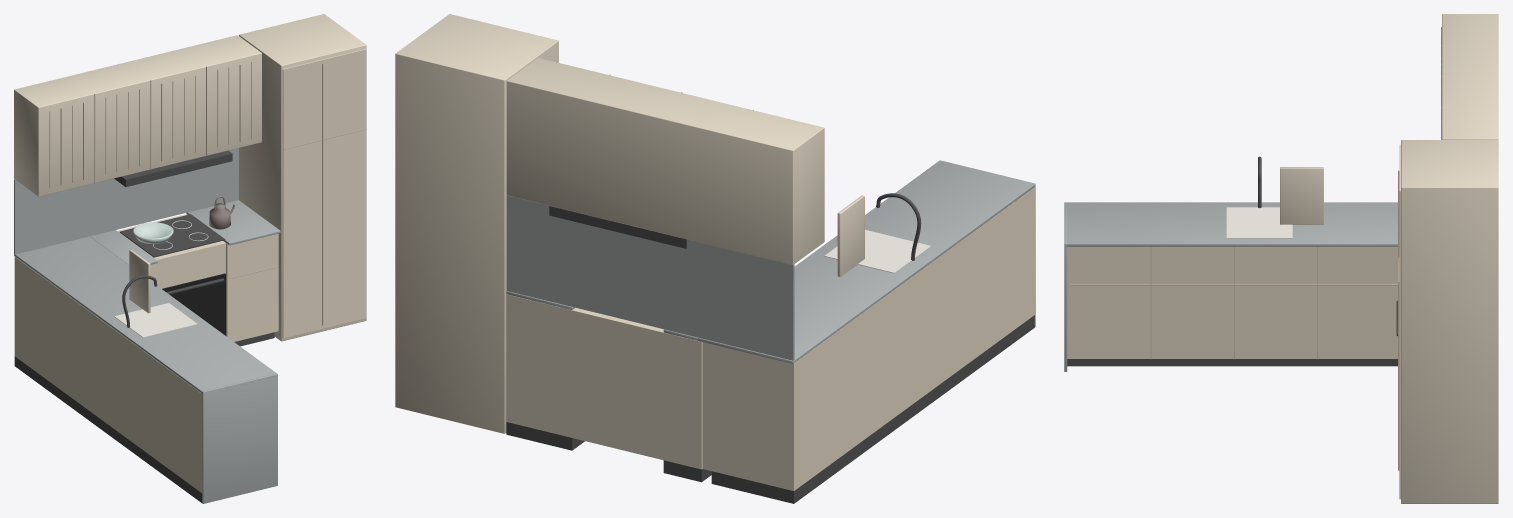
Rendered from sg_kitchen_set.glb.
3 renders of one model, left to right at view 1: azimuth 30°, elevation 25°; view 2: azimuth 150°, elevation 25°; view 3: azimuth 270°, elevation 25°, orthographic. The views are drawn at different scales.
Parts seen in each view (by area): view 1: upper, fdoor, base_w, top_w, splash, fridge, endpanel, base_n1, rangebody, plinth_w, hob, ovendoor (+8 smaller); view 2: fridge, upper, base_w, splash, top_w, rangebody, base_n1, base_n0, plinth_w, sink, board, hood (+1 smaller); view 3: base_w, fridge, top_w, upper, plinth_w, board, sink, fdoor, wgaph, endpanel, fgapv.
Part boxes in pixels (x1,y1,x2,y2): upper: [14, 35, 261, 196]; fdoor: [282, 49, 366, 338]; base_w: [14, 257, 202, 493]; top_w: [14, 236, 277, 393]; splash: [14, 148, 238, 254]; fridge: [239, 14, 366, 341]; endpanel: [202, 373, 277, 503]; base_n1: [186, 214, 278, 341]; rangebody: [118, 214, 225, 288]; plinth_w: [14, 356, 202, 503]; hob: [119, 214, 225, 257]; ovendoor: [162, 273, 225, 335]; fridge: [395, 14, 558, 433]; upper: [506, 58, 824, 264]; base_w: [702, 187, 1034, 490]; splash: [506, 195, 794, 360]; top_w: [697, 160, 1035, 363]; rangebody: [572, 308, 663, 460]; base_n1: [506, 294, 574, 437]; base_n0: [663, 332, 702, 469]; plinth_w: [711, 315, 1034, 503]; sink: [824, 229, 931, 273]; board: [837, 195, 864, 276]; hood: [549, 206, 686, 248]; base_w: [1067, 246, 1397, 358]; fridge: [1401, 140, 1498, 503]; top_w: [1064, 202, 1397, 246]; upper: [1442, 14, 1498, 139]; plinth_w: [1067, 359, 1397, 366]; board: [1280, 167, 1323, 224]; sink: [1226, 207, 1292, 238]; fdoor: [1399, 144, 1400, 499]; wgaph: [1070, 284, 1397, 285]; endpanel: [1064, 202, 1067, 371]; fgapv: [1398, 170, 1399, 470].
Size of the model in its own units: 2.61 by 2.22 by 2.76.
